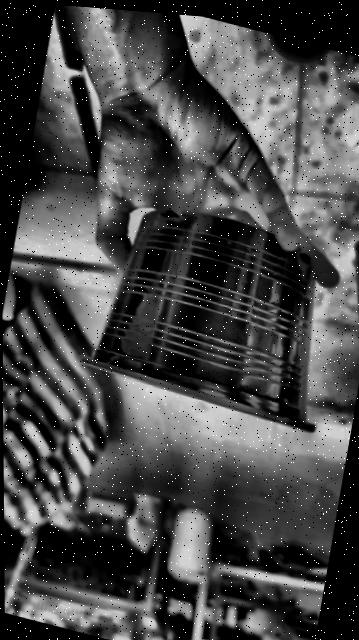pot: (83, 209, 313, 430)
